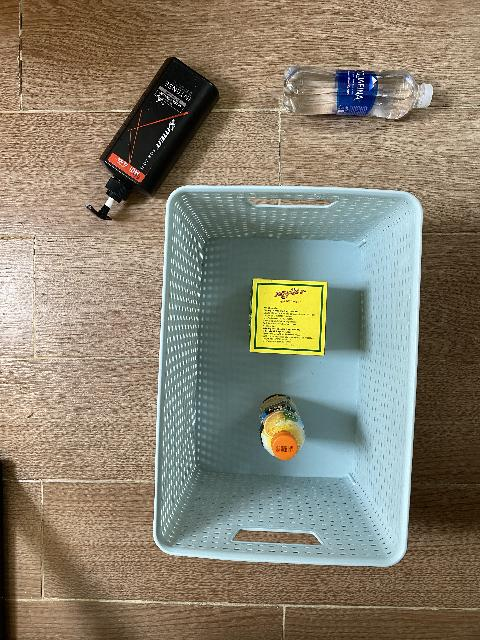X-men: (84, 57, 220, 221)
aquafina: (281, 65, 433, 119)
cart: (152, 186, 424, 569)
luong_kho: (249, 278, 328, 357)
teppy_orange_juice: (259, 394, 306, 460)
